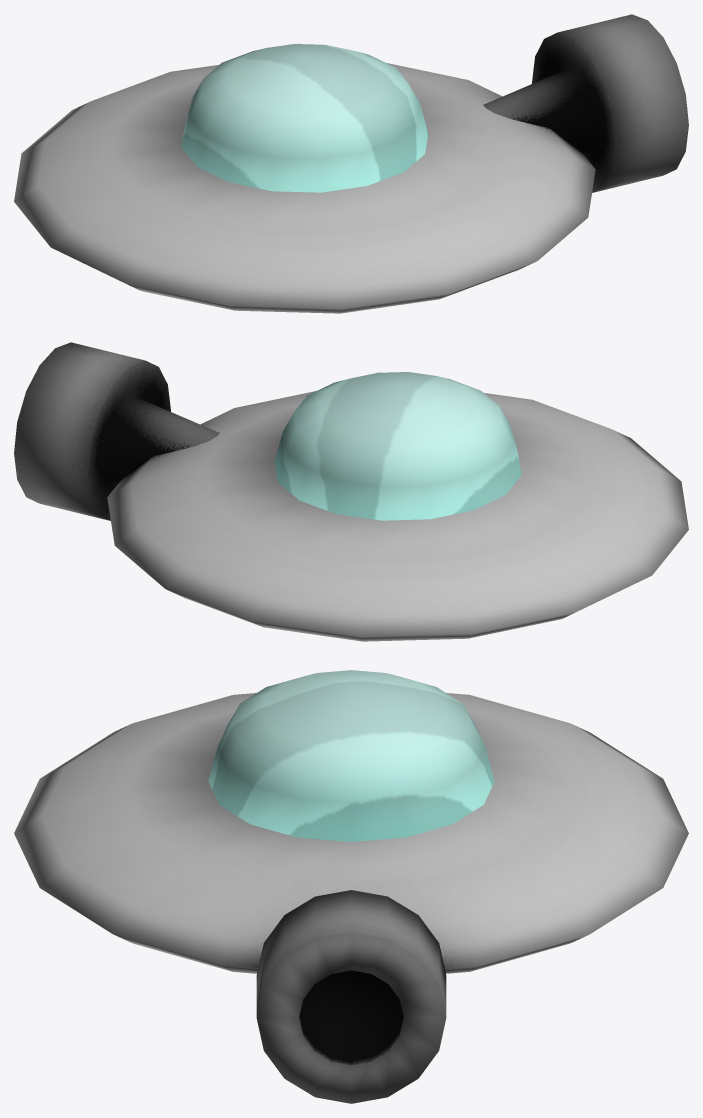
File: ufo.fbx
The picture shows the model from 3 angles, top to bottom: view 1: azimuth 30°, elevation 25°; view 2: azimuth 150°, elevation 25°; view 3: azimuth 270°, elevation 25°; orthographic projection. The views are drawn at different scales.
Visible parts, largest first — view 1: Cylinder; view 2: Cylinder; view 3: Cylinder.
Part boxes in pixels (left/top/right/bottom): Cylinder: left=14, top=14, right=688, bottom=313; Cylinder: left=14, top=342, right=688, bottom=641; Cylinder: left=14, top=670, right=688, bottom=1103.
Size of the model in its own units: 2.56 by 0.8047 by 2.18.
Materials: 1 (1 with a texture image).
